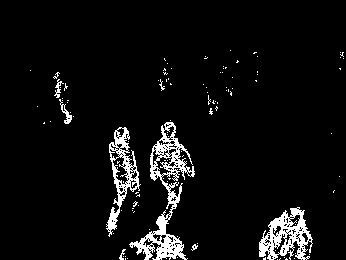person: (151, 119, 195, 234), (106, 124, 144, 238), (258, 205, 313, 260)
